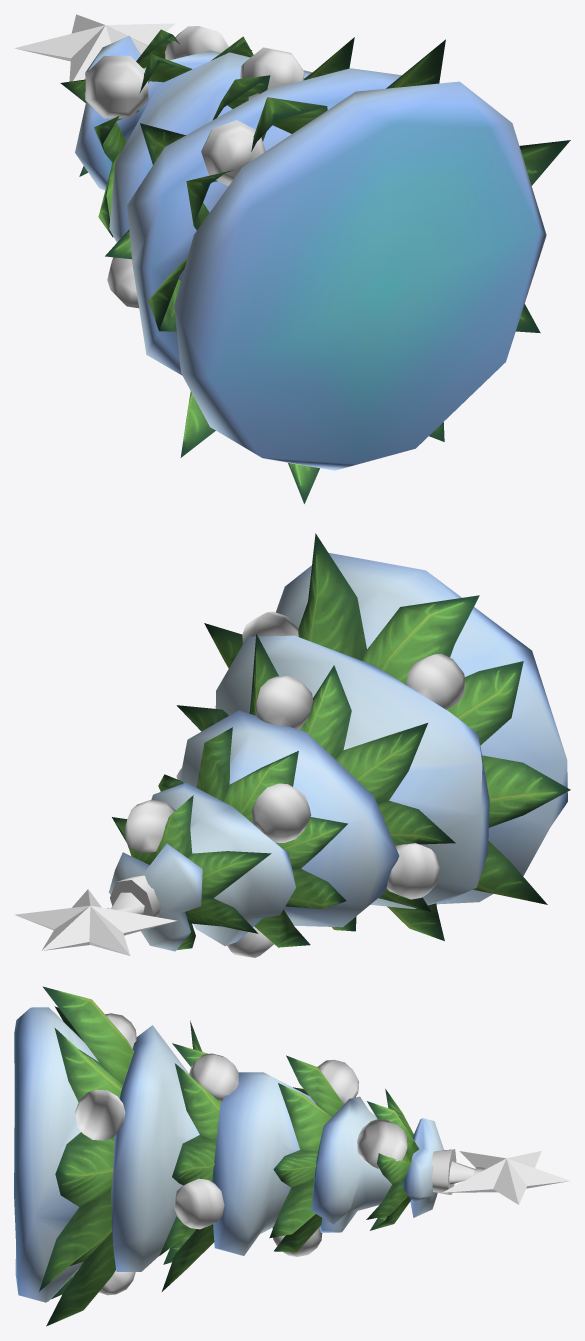
File: ChristmasTree.fbx
3 renders of one model, top to bottom at view 1: azimuth 30°, elevation 25°; view 2: azimuth 150°, elevation 25°; view 3: azimuth 270°, elevation 25°, orthographic. The views are drawn at different scales.
Visible parts, largest first — view 1: ChristmasTree, ChristmasTreeOrnaments; view 2: ChristmasTree, ChristmasTreeOrnaments; view 3: ChristmasTree, ChristmasTreeOrnaments.
Part boxes in pixels (x1,y1,x2,y2): ChristmasTree: (60,29,570,503); ChristmasTreeOrnaments: (14,14,304,308); ChristmasTree: (109,533,570,951); ChristmasTreeOrnaments: (14,611,465,957); ChristmasTree: (14,986,443,1326); ChristmasTreeOrnaments: (75,1013,570,1295).
Bounding box in the file's own units: 95.77 × 94.84 × 147.
